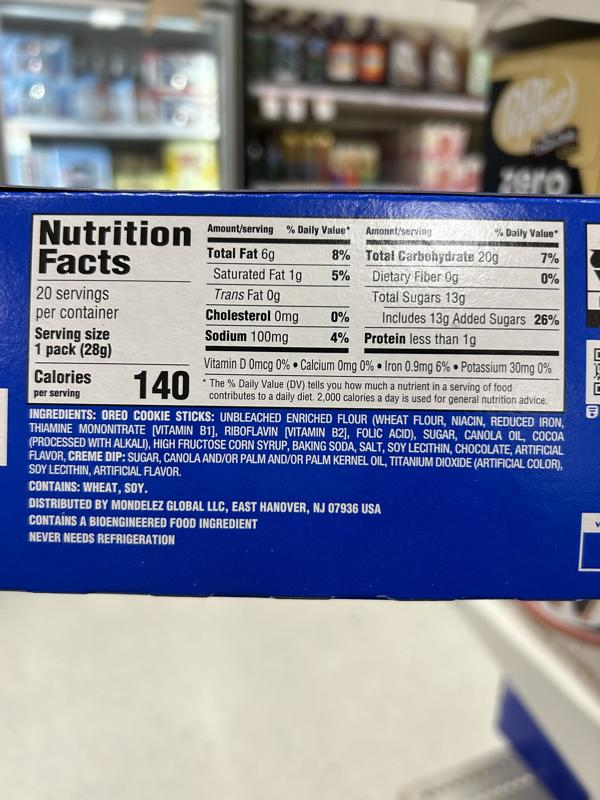ingredients: (26, 407, 566, 478)
